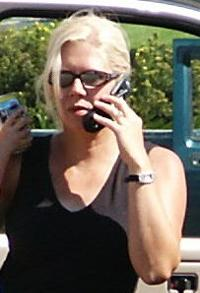person: (3, 14, 188, 293)
